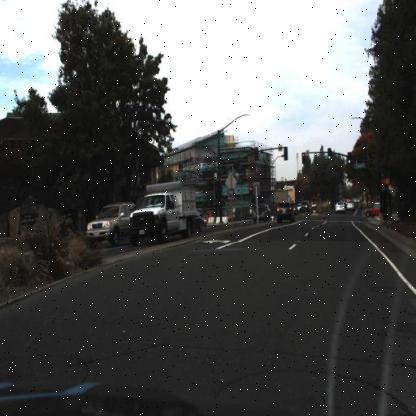car: (86, 198, 140, 249), (274, 196, 296, 226), (362, 198, 384, 221), (252, 201, 271, 226), (189, 209, 204, 237)
trafficLight-Green: (327, 146, 332, 164), (347, 150, 352, 167)
trafficLight-RedLeft: (301, 151, 305, 165)
truck: (127, 178, 197, 245)
